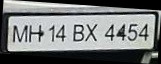character: (12, 24, 28, 43), (84, 22, 98, 41), (28, 23, 41, 43), (72, 23, 84, 41), (138, 23, 150, 40), (55, 24, 66, 42), (104, 23, 115, 41), (127, 23, 137, 41), (116, 23, 126, 40), (48, 24, 55, 42)
